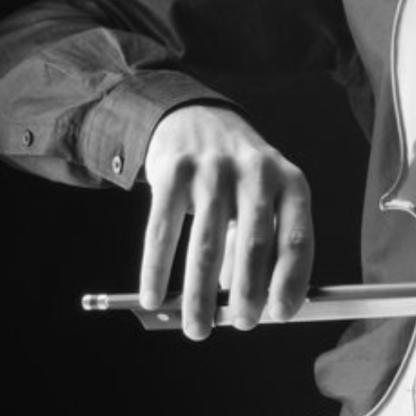good: (132, 127, 329, 349)
